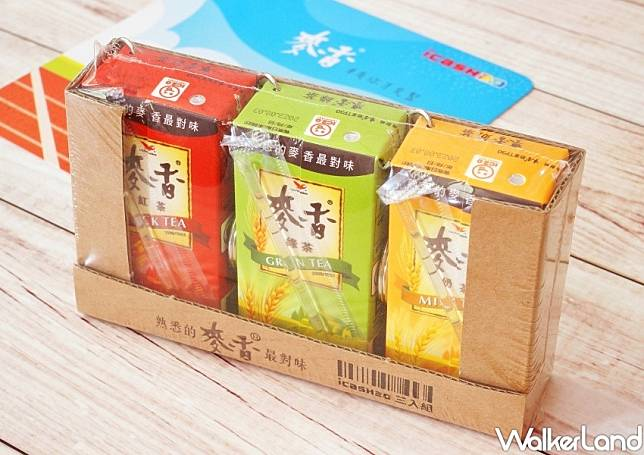鋁箔包: (229, 75, 410, 373), (387, 111, 579, 390), (73, 36, 258, 319)
